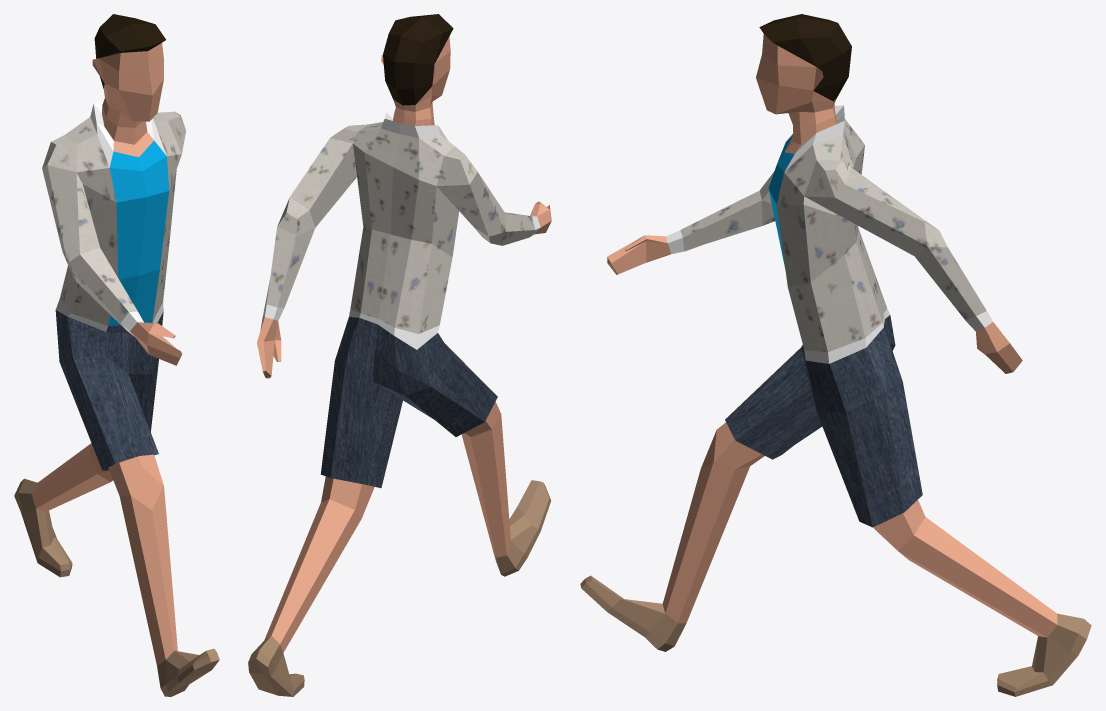
Rendered from SpringManA.004.glb.
3 views of the same model, side by side, from view 1: azimuth 30°, elevation 25°; view 2: azimuth 150°, elevation 25°; view 3: azimuth 270°, elevation 25° (orthographic). The views are drawn at different scales.
Visible parts, largest first — view 1: SpringManA.004; view 2: SpringManA.004; view 3: SpringManA.004.
Boxes of the visible parts, x1,y1,x2,y2 form: SpringManA.004: (14, 14, 219, 696); SpringManA.004: (248, 14, 551, 696); SpringManA.004: (580, 14, 1091, 696).
Size of the model in its own units: 0.4259 by 1.62 by 1.15.
1 material, 1 textured.
